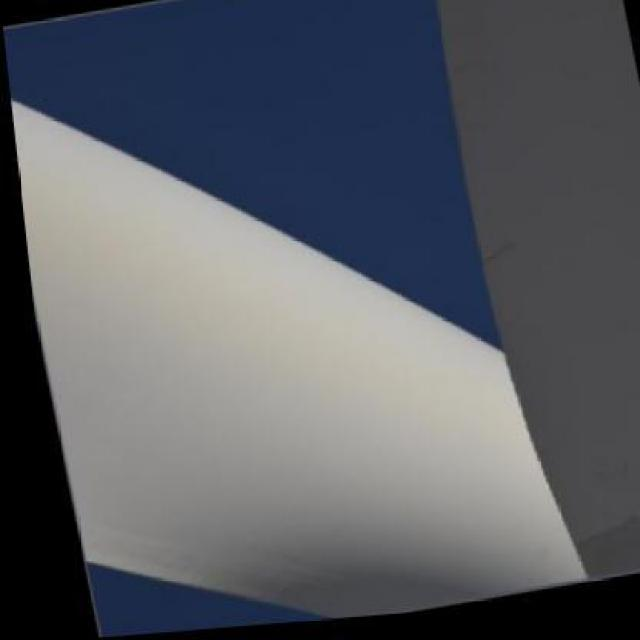Crack: (459, 239, 518, 281), (438, 60, 471, 94)
